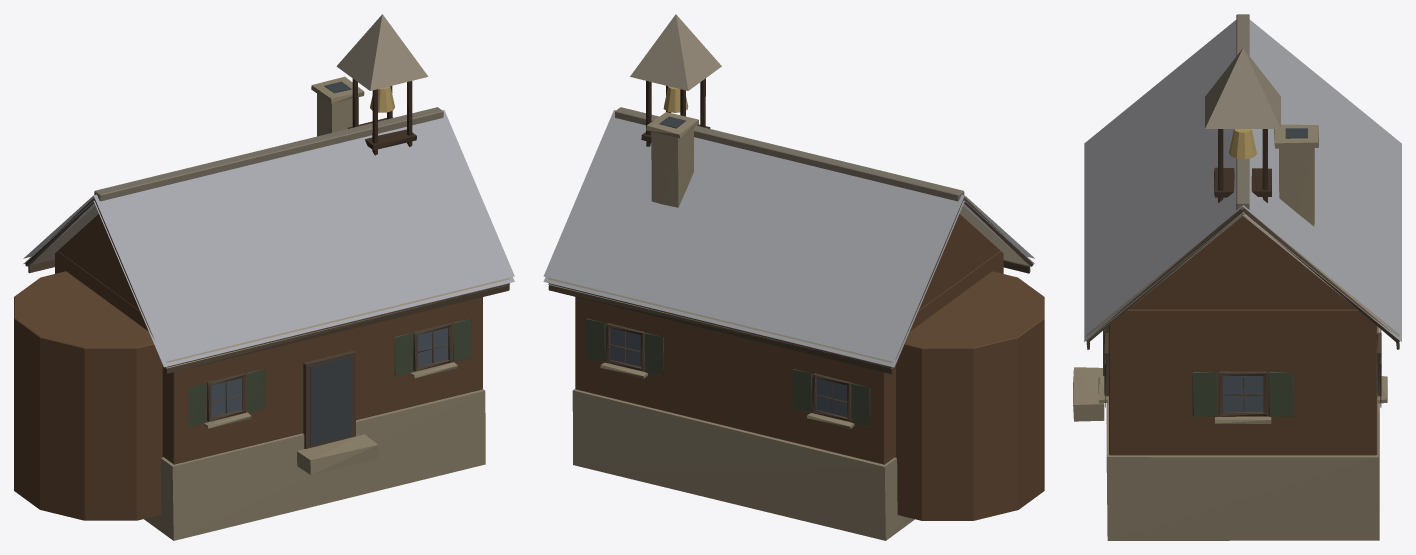
Rendered from chapel-mountain-snow-lod1.glb.
The picture shows the model from 3 angles, left to right: view 1: azimuth 30°, elevation 25°; view 2: azimuth 150°, elevation 25°; view 3: azimuth 270°, elevation 25°; orthographic projection. The views are drawn at different scales.
Size of the model in its own units: 12.13 by 11.58 by 7.35.
